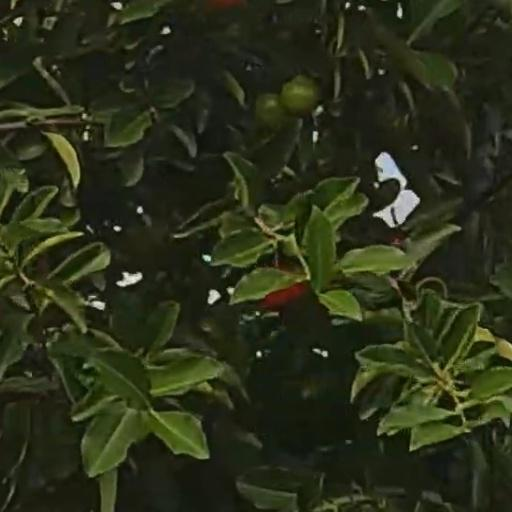acerola_verde: (282, 75, 318, 115), (254, 94, 286, 130)
